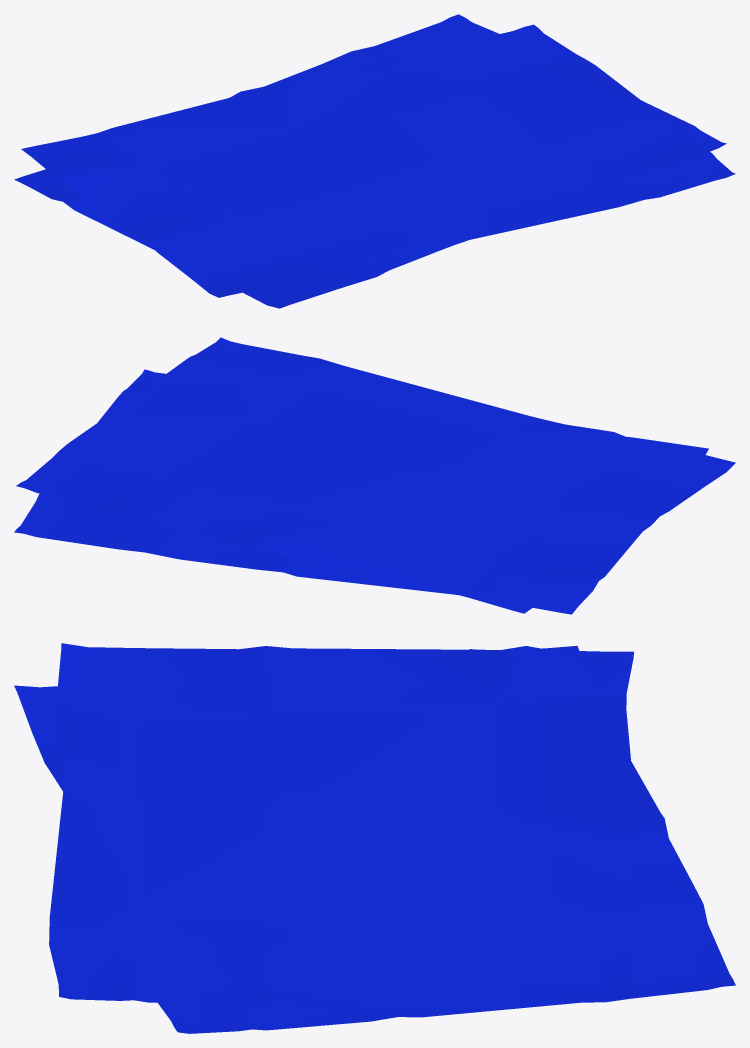
The model's file is Carre-Bleu-Soins-Projet-Doceo.fbx.
3 views of the same model, one above another, from view 1: azimuth 30°, elevation 25°; view 2: azimuth 150°, elevation 25°; view 3: azimuth 270°, elevation 25° (orthographic). The views are drawn at different scales.
Visible parts, largest first — view 1: Feuille-De-Soins-1, Feuille-De-Soins-2; view 2: Feuille-De-Soins-1, Feuille-De-Soins-2; view 3: Feuille-De-Soins-1, Feuille-De-Soins-2.
Part boxes in pixels (<box>): Feuille-De-Soins-1: <box>21,24,735,297</box>; Feuille-De-Soins-2: <box>14,14,726,308</box>; Feuille-De-Soins-1: <box>16,337,735,613</box>; Feuille-De-Soins-2: <box>14,369,708,614</box>; Feuille-De-Soins-1: <box>49,643,636,1003</box>; Feuille-De-Soins-2: <box>14,646,735,1033</box>.
Bounding box in the file's own units: 47.14 × 0.9493 × 36.99.
